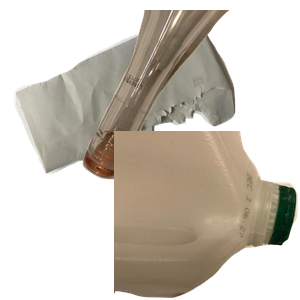glass: (80, 10, 300, 182)
paper: (12, 10, 240, 176)
plastic: (114, 131, 300, 300)
trash: (120, 131, 290, 300)
